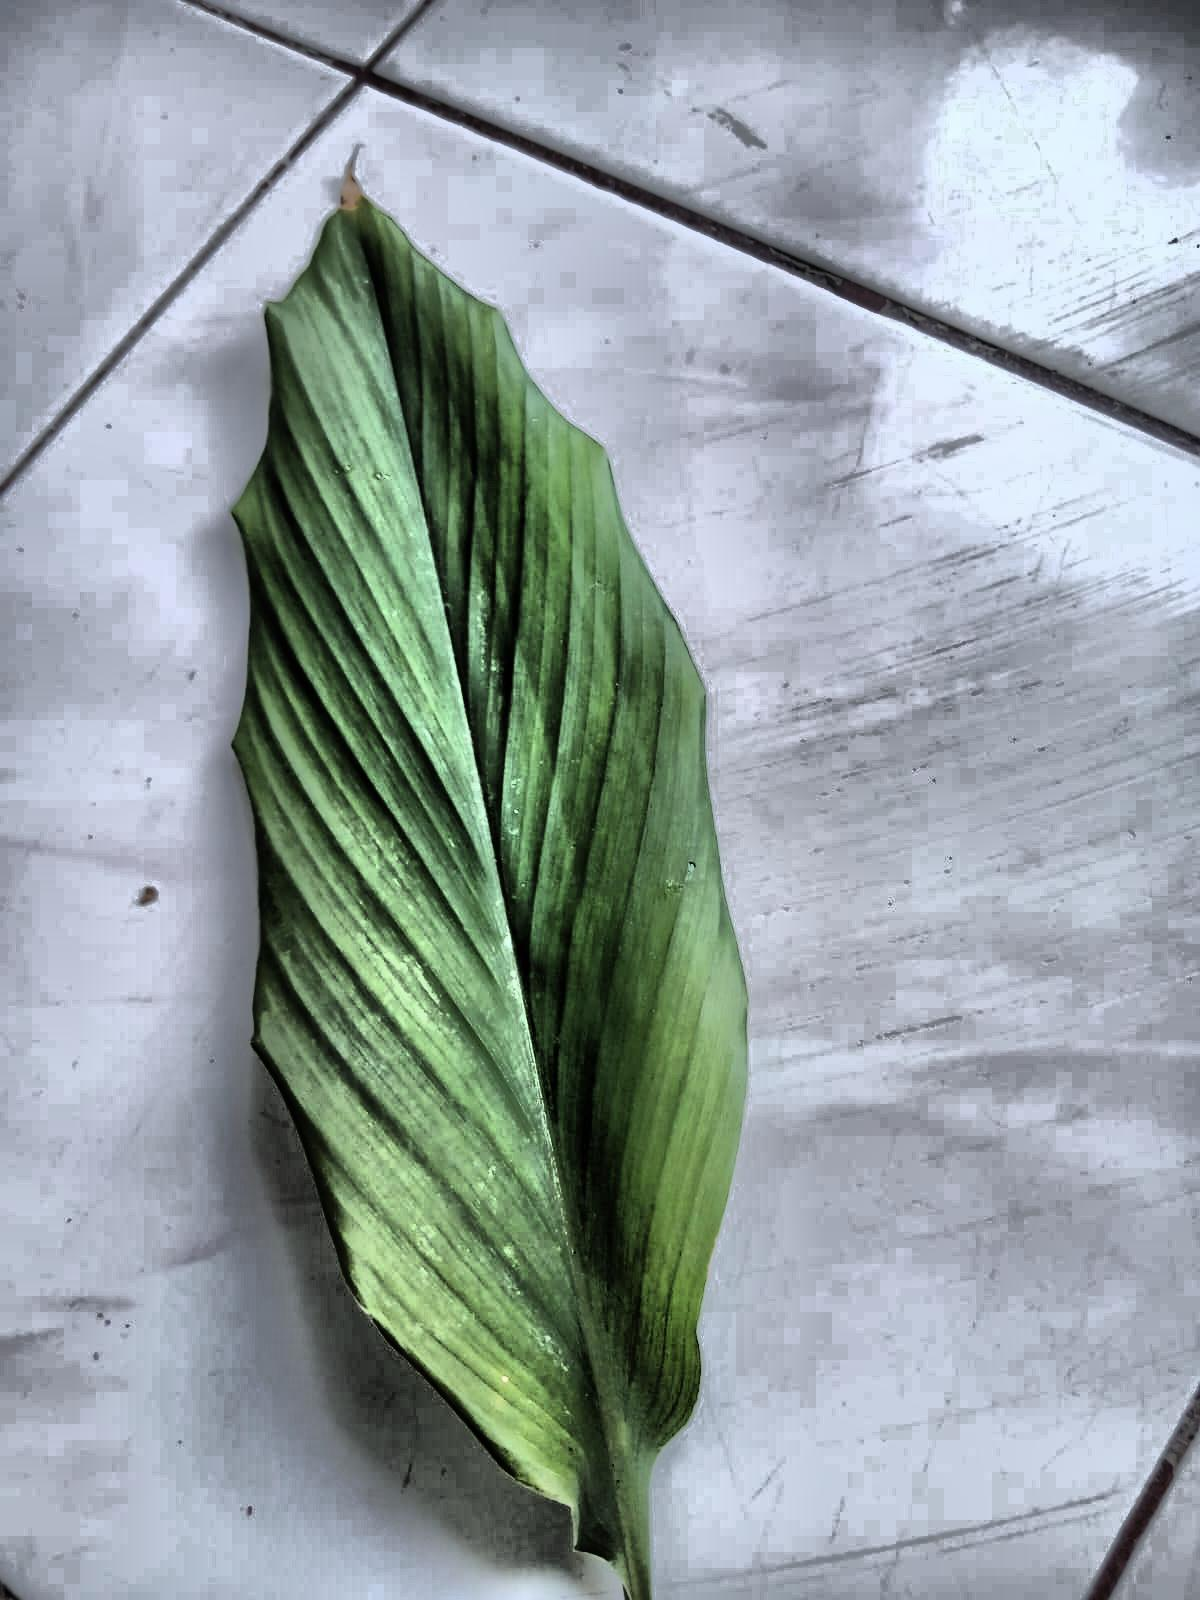daun kunyit: (232, 178, 746, 1599)
